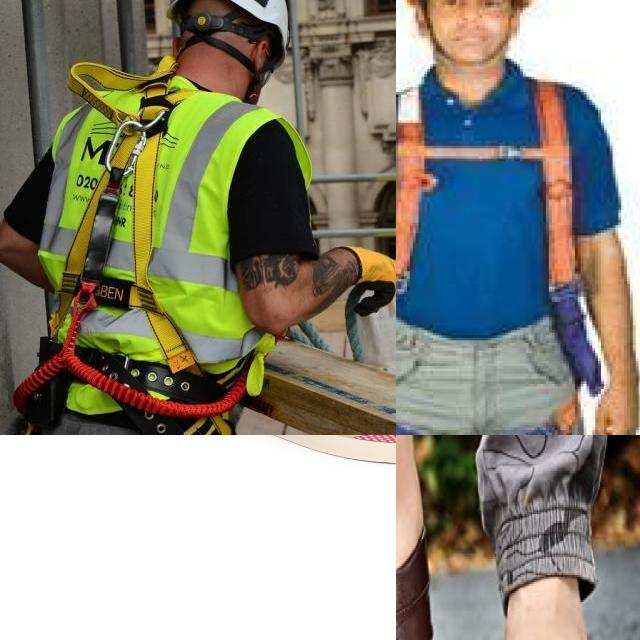Harness: (396, 78, 590, 435), (55, 57, 196, 372)
Sandals: (490, 572, 640, 640), (396, 435, 445, 640)
